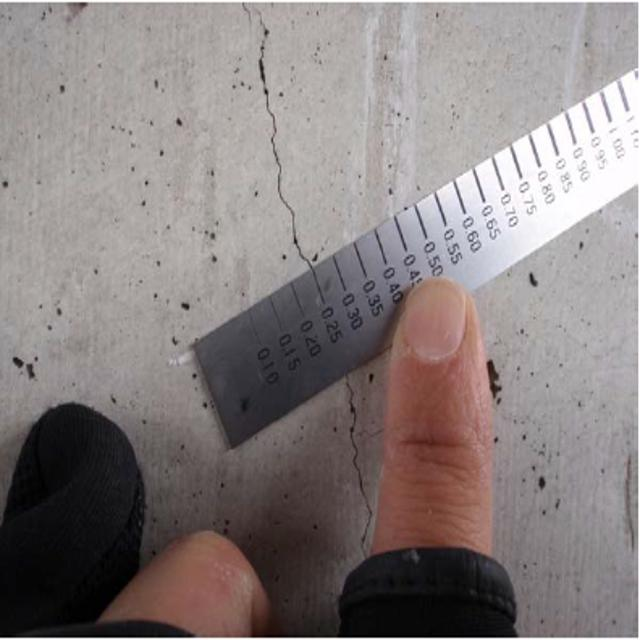crack: (236, 9, 324, 274), (332, 392, 387, 548)
